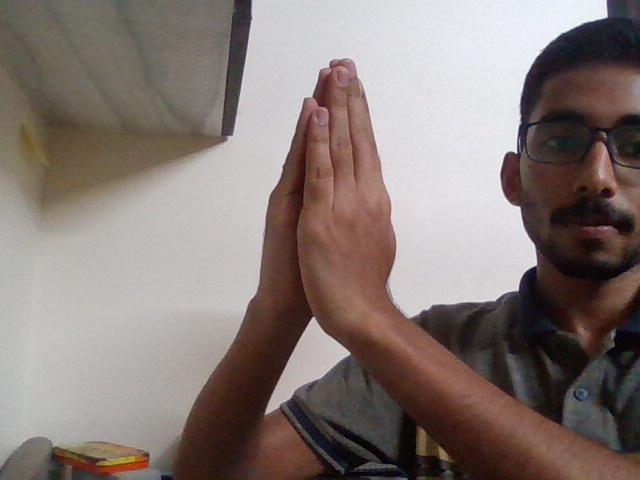Thank You: (229, 37, 426, 362)
